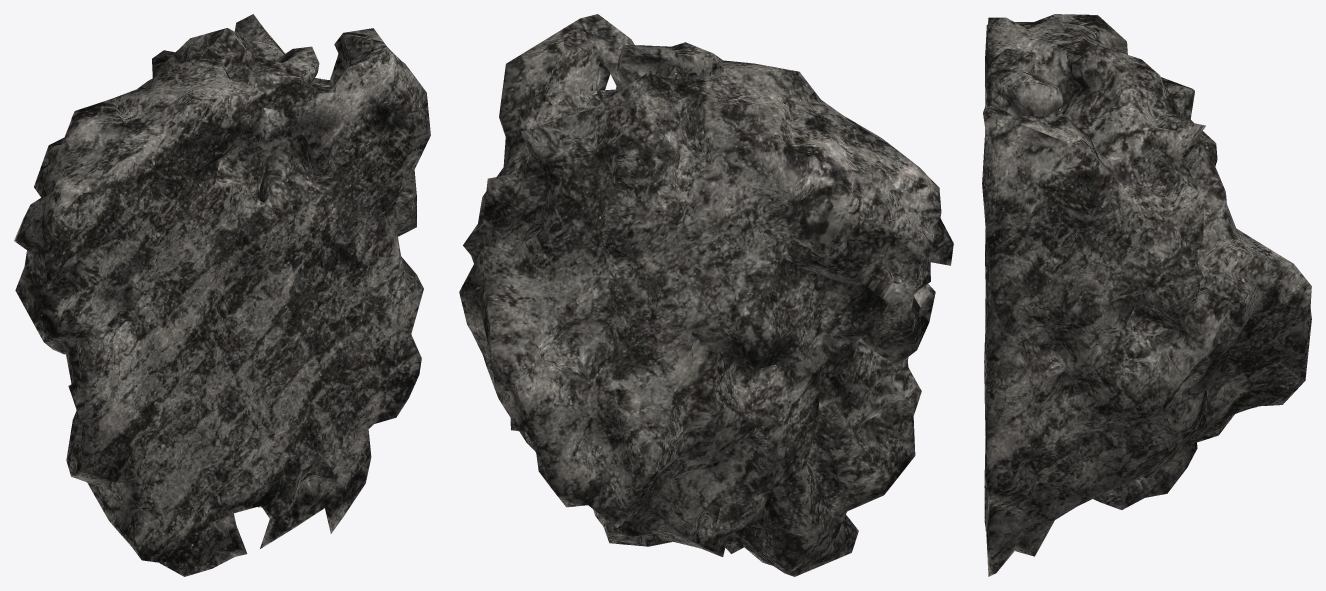
The model's file is rock-vesicular-block-bustos.glb.
3 renders of one model, left to right at view 1: azimuth 30°, elevation 25°; view 2: azimuth 150°, elevation 25°; view 3: azimuth 270°, elevation 25°, orthographic. The views are drawn at different scales.
Visible parts, largest first — view 1: rock-vesicular-block-bustos_LOD0; view 2: rock-vesicular-block-bustos_LOD0; view 3: rock-vesicular-block-bustos_LOD0.
Part boxes in pixels (bbox=[...]): rock-vesicular-block-bustos_LOD0: bbox=[14, 14, 430, 576]; rock-vesicular-block-bustos_LOD0: bbox=[459, 14, 953, 576]; rock-vesicular-block-bustos_LOD0: bbox=[982, 14, 1311, 576].
Size of what is drawn, in the model's own units: 1.33 by 1.58 by 0.9238.
Materials: 1 (1 with a texture image).
